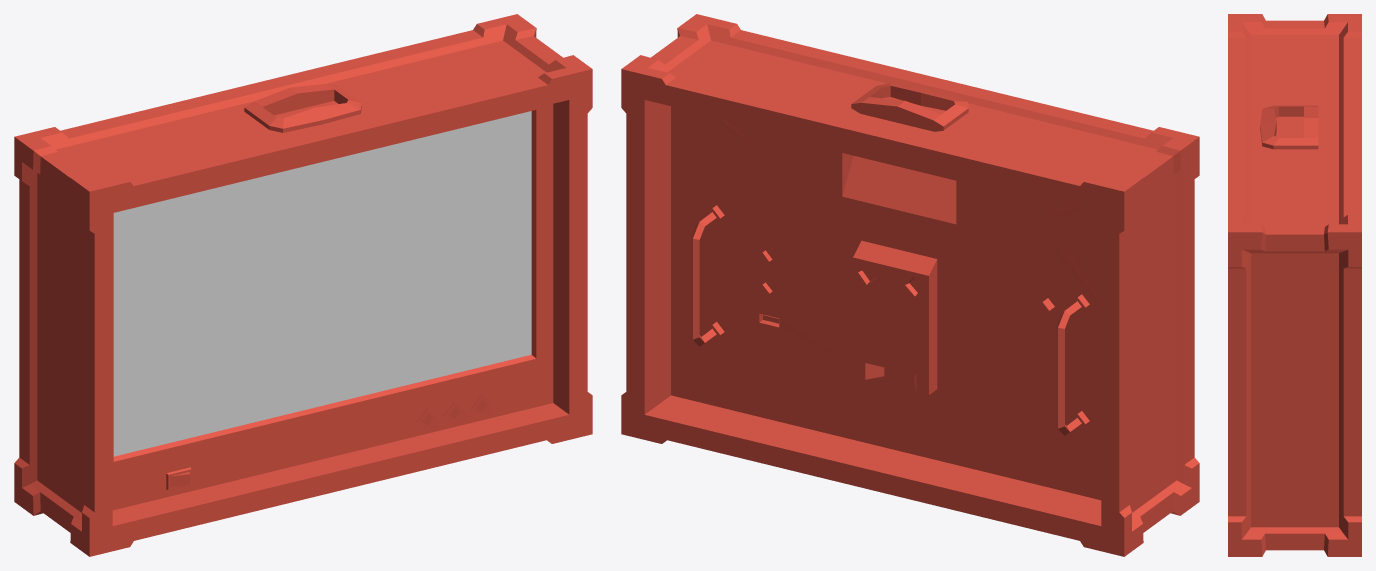
Rendered from SM_Assist_Monitor.fbx.
The picture shows the model from 3 angles, left to right: view 1: azimuth 30°, elevation 25°; view 2: azimuth 150°, elevation 25°; view 3: azimuth 270°, elevation 25°; orthographic projection. The views are drawn at different scales.
Parts seen in each view (by area): view 1: SM_Assist_Monitor; view 2: SM_Assist_Monitor; view 3: SM_Assist_Monitor.
Part boxes in pixels (left/top/right/bottom): SM_Assist_Monitor: left=14, top=14, right=592, bottom=556; SM_Assist_Monitor: left=621, top=14, right=1199, bottom=556; SM_Assist_Monitor: left=1228, top=14, right=1361, bottom=556.
Bounding box in the file's own units: 14.58 × 56.28 × 40.14.
